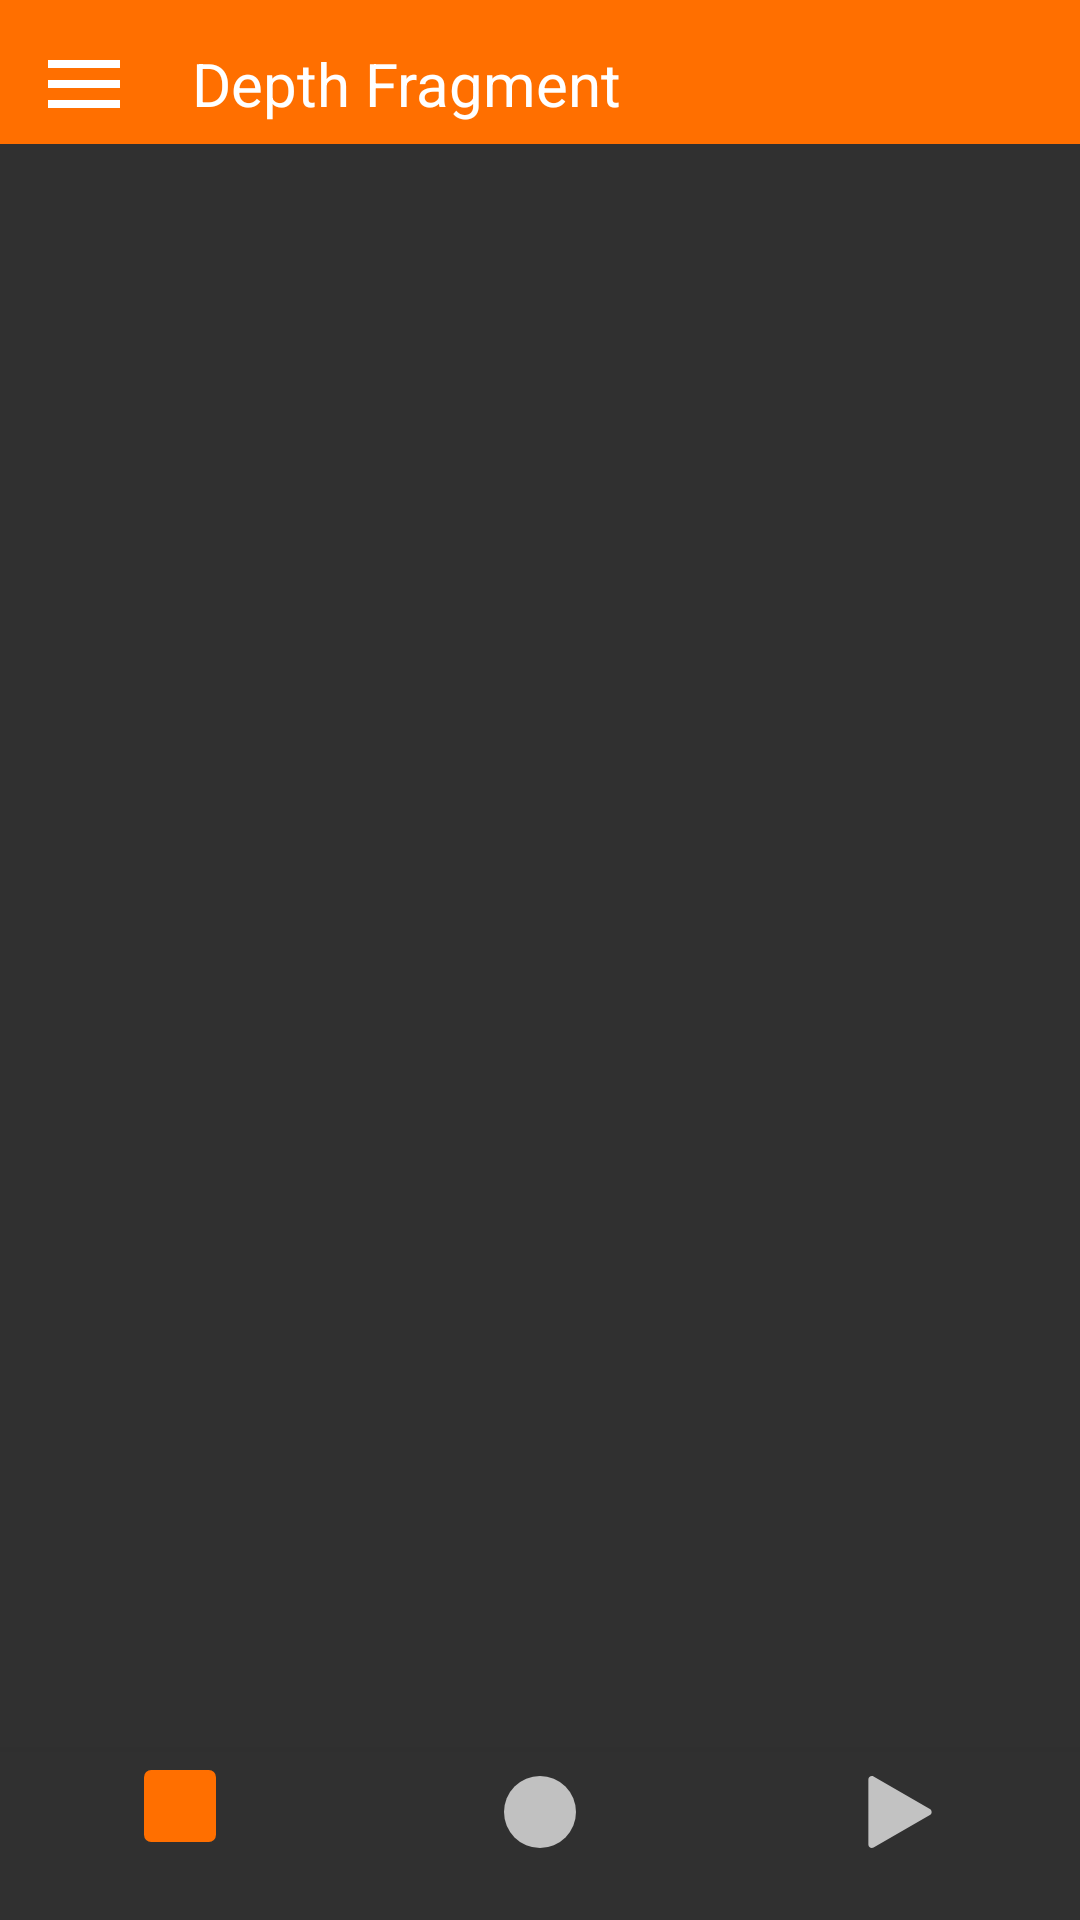

Icons on this 1080px×1920px Android screen, each with its box as (x1, y1, x2, y2):
asl pathmorph drawer: (48, 60, 120, 108)
